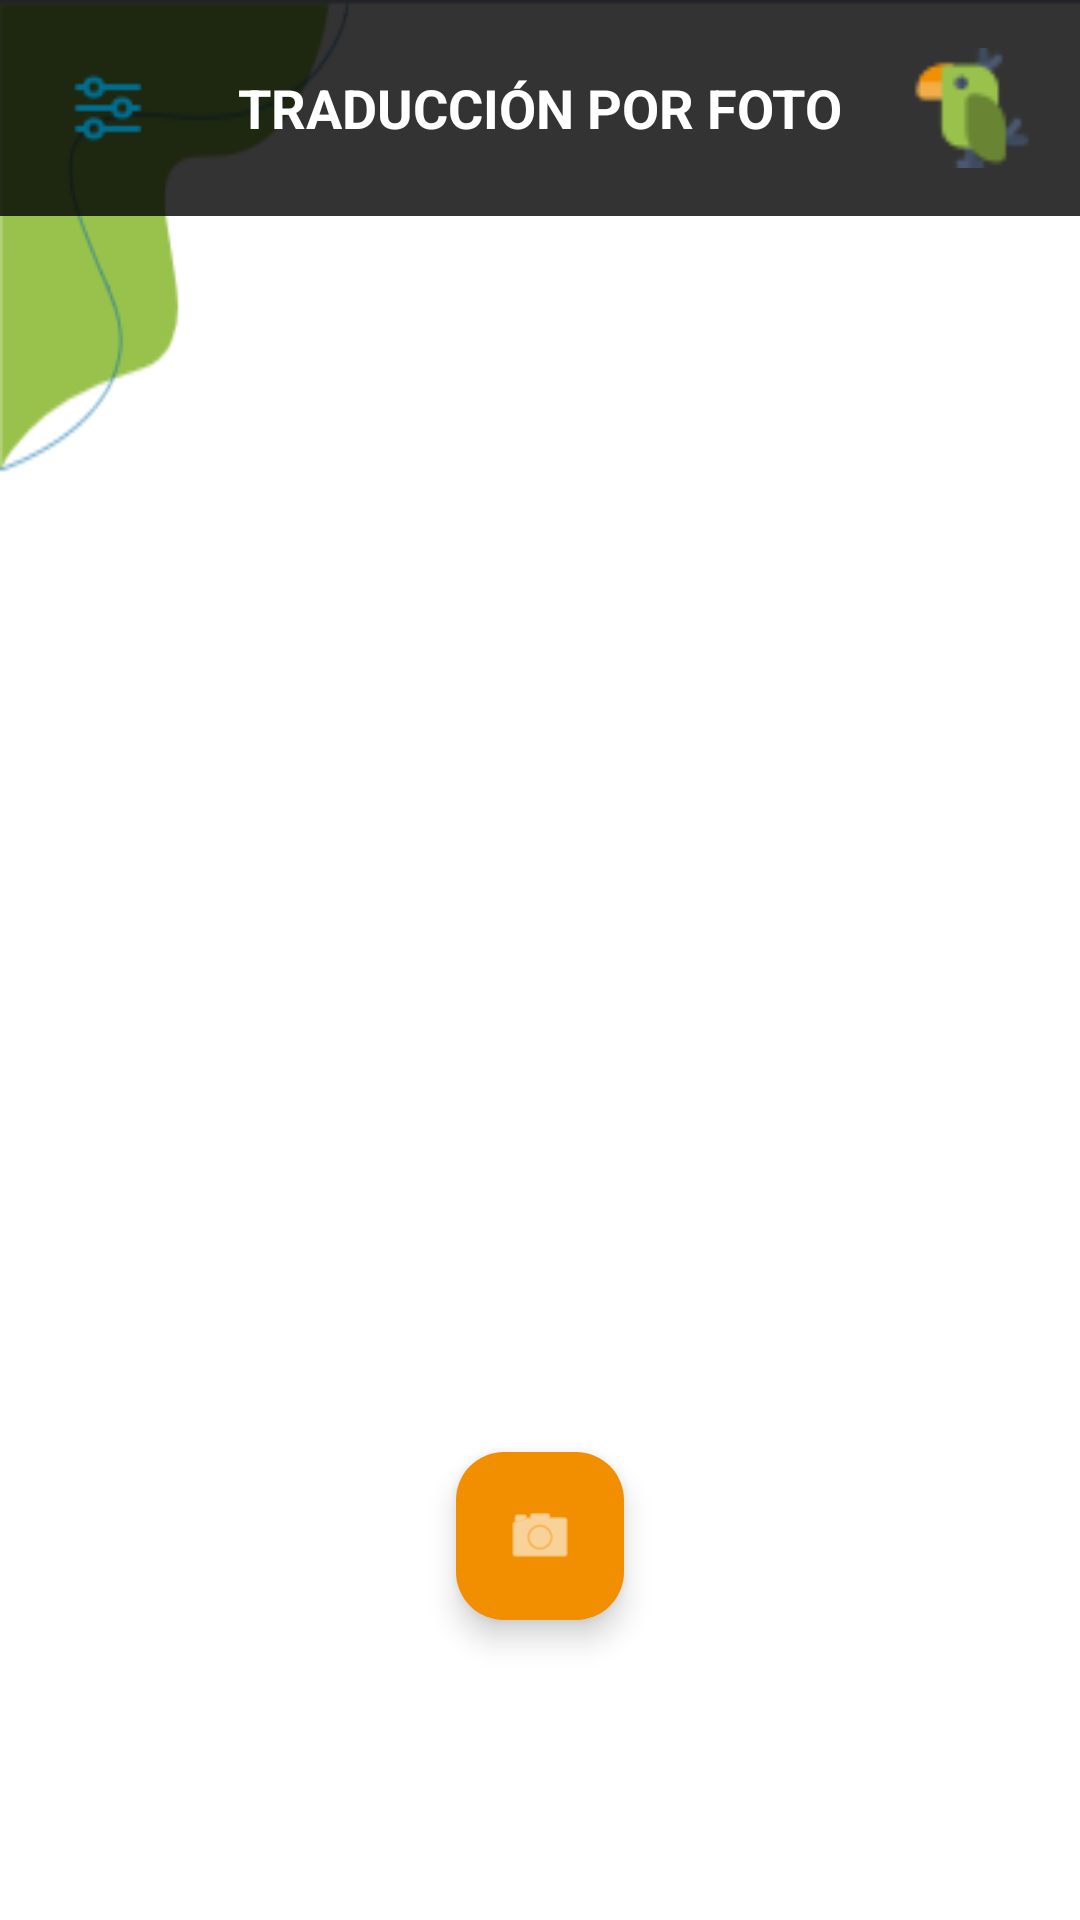

Point at icon controls on the screen. Image size 1080x1920, points as point (x, y).
camera: point (540, 1536)
Configuración: point (108, 108)
parrot: point (971, 108)
